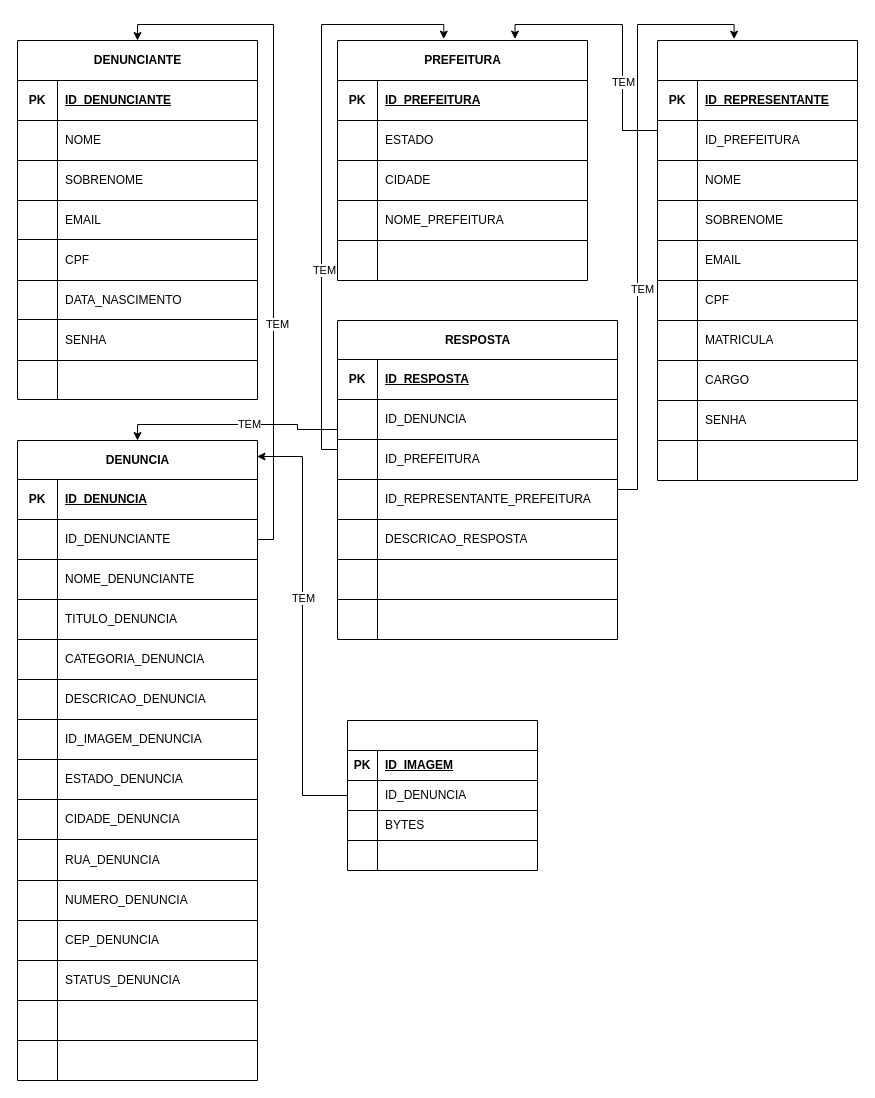
Some shapes in this 875 by 1098 pixel diagram are drawn without their labels. Here are the shapes that lost their labels. From the top down, the box of each, then its label:
(656, 40, 858, 480): representantePrefeitura
(346, 720, 538, 870): IMAGENS
